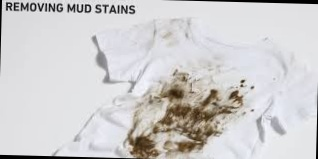earth: (163, 90, 222, 139), (129, 136, 159, 158), (163, 139, 204, 153), (224, 93, 244, 114), (238, 80, 255, 89)
